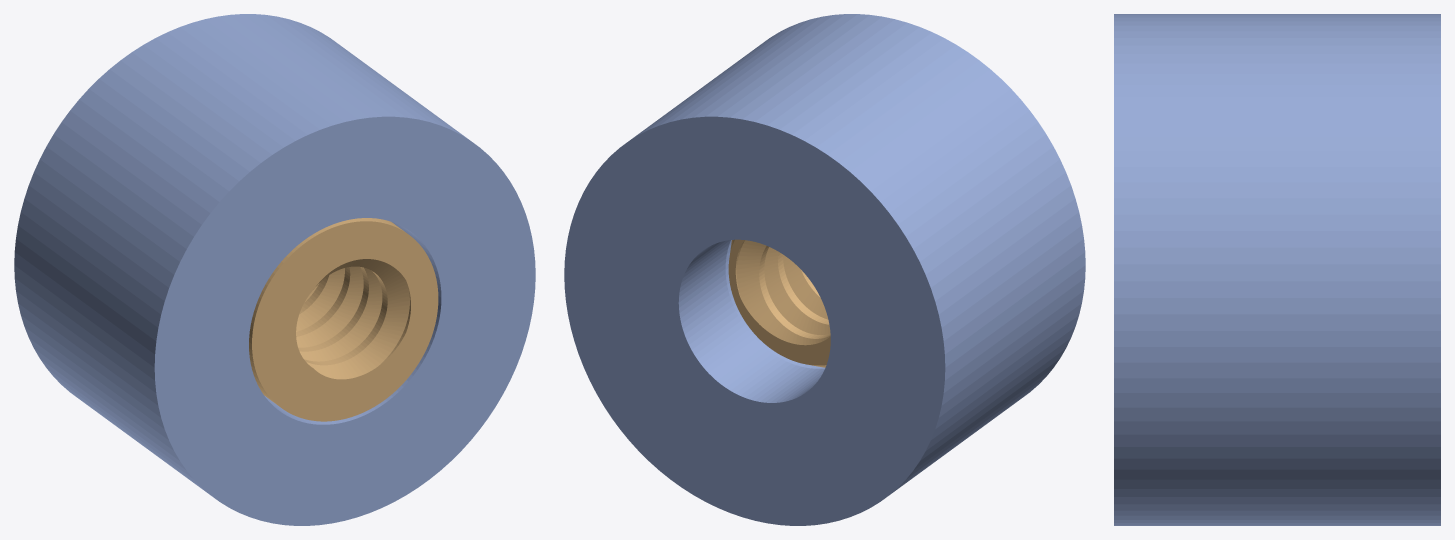
The model's file is thread_insert_demo.glb.
3 renders of one model, left to right at view 1: azimuth 30°, elevation 25°; view 2: azimuth 150°, elevation 25°; view 3: azimuth 270°, elevation 25°, orthographic. The views are drawn at different scales.
Visible parts, largest first — view 1: boss, insert; view 2: boss, insert; view 3: boss.
Boxes of the visible parts, bbox=[...] form: boss: bbox=[14, 14, 535, 525]; insert: bbox=[249, 218, 438, 421]; boss: bbox=[564, 14, 1085, 525]; insert: bbox=[728, 239, 830, 367]; boss: bbox=[1114, 14, 1440, 525].
Bounding box in the file's own units: 9.4 × 9.4 × 6.
